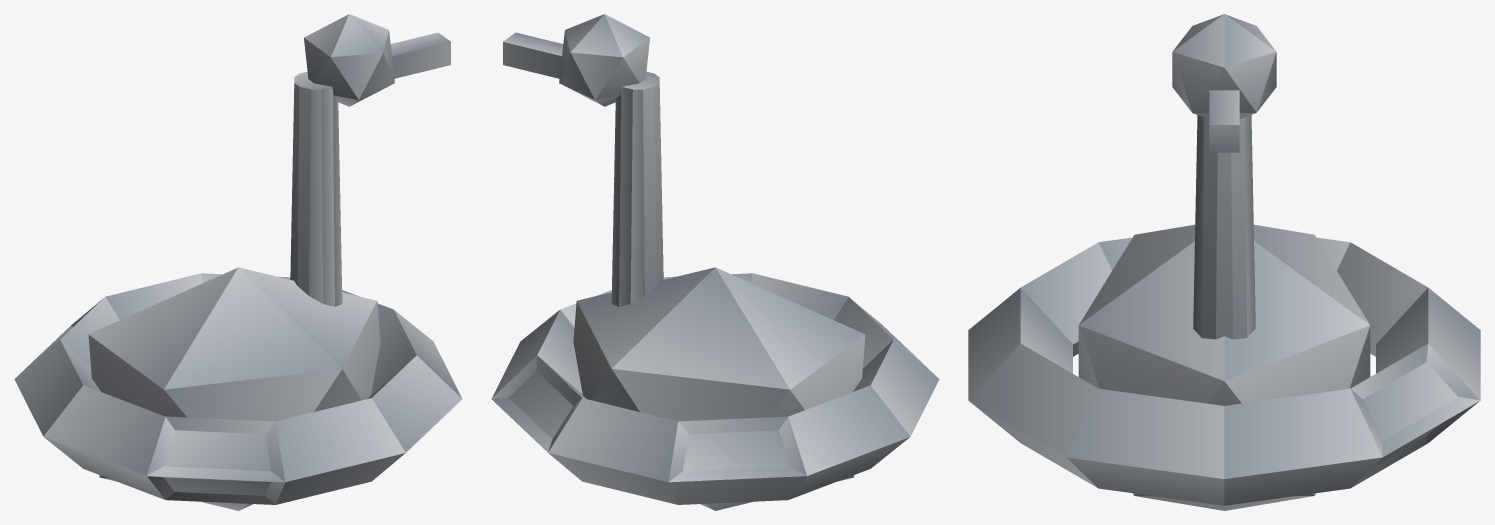
File: dt_inflatable_flamingo.fbx
The picture shows the model from 3 angles, left to right: view 1: azimuth 30°, elevation 25°; view 2: azimuth 150°, elevation 25°; view 3: azimuth 270°, elevation 25°; orthographic projection. The views are drawn at different scales.
Visible parts, largest first — view 1: dt_inflatable_flamingo; view 2: dt_inflatable_flamingo; view 3: dt_inflatable_flamingo.
Boxes of the visible parts, x1,y1,x2,y2 form: dt_inflatable_flamingo: (14, 14, 462, 510); dt_inflatable_flamingo: (491, 14, 939, 510); dt_inflatable_flamingo: (968, 14, 1480, 510).
Size of the model in its own units: 268 by 300 by 248.
